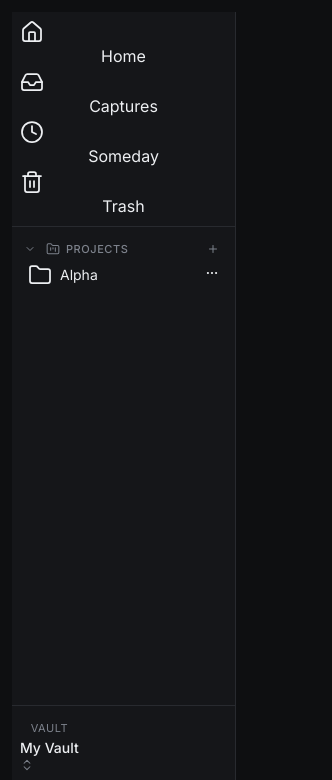
Scenario: Sidebar — project row menu › opening the menu does not navigate to the project
Click the button named "More actions for Alpha": point(212, 273) top-left (205, 266), bottom-right (219, 280)
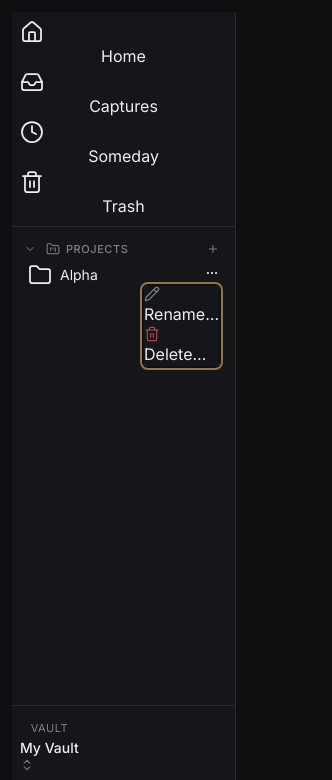
Now the menu item "Rename…" is shown, box top-left (144, 286), bottom-right (219, 326)
Now the menu item "Delete…" is shown, box top-left (144, 326), bottom-right (206, 364)
